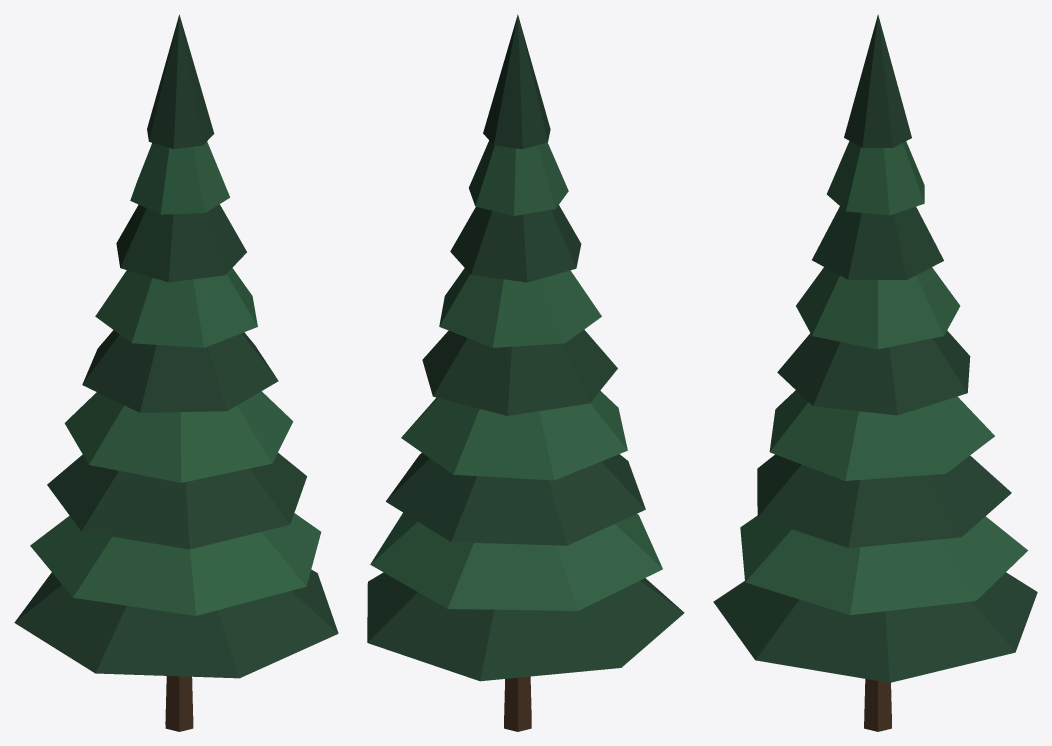
File: spruce-b.glb
3 views of the same model, side by side, from view 1: azimuth 30°, elevation 25°; view 2: azimuth 150°, elevation 25°; view 3: azimuth 270°, elevation 25° (orthographic).
Visible parts, largest first — view 1: tree; view 2: tree; view 3: tree.
Part boxes in pixels (<box>): tree: <box>14,14,338,731</box>; tree: <box>367,14,684,731</box>; tree: <box>713,14,1037,731</box>.
Bounding box in the file's own units: 5.2 × 12.7 × 5.25.
